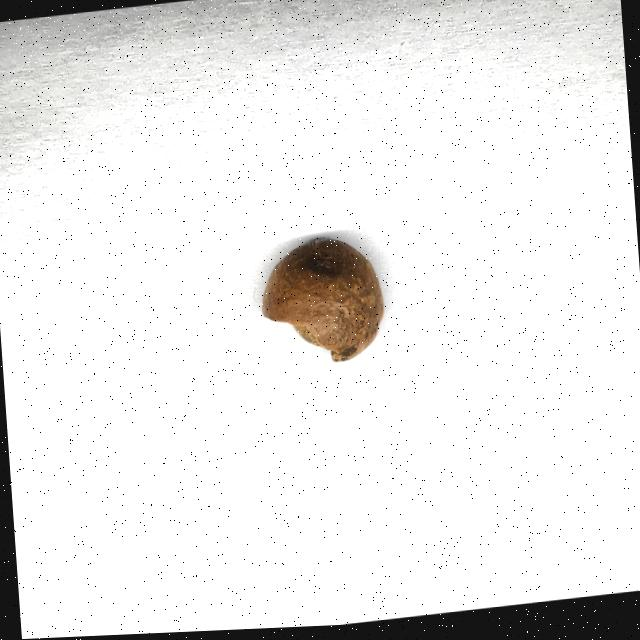Broken: (255, 235, 388, 374)
